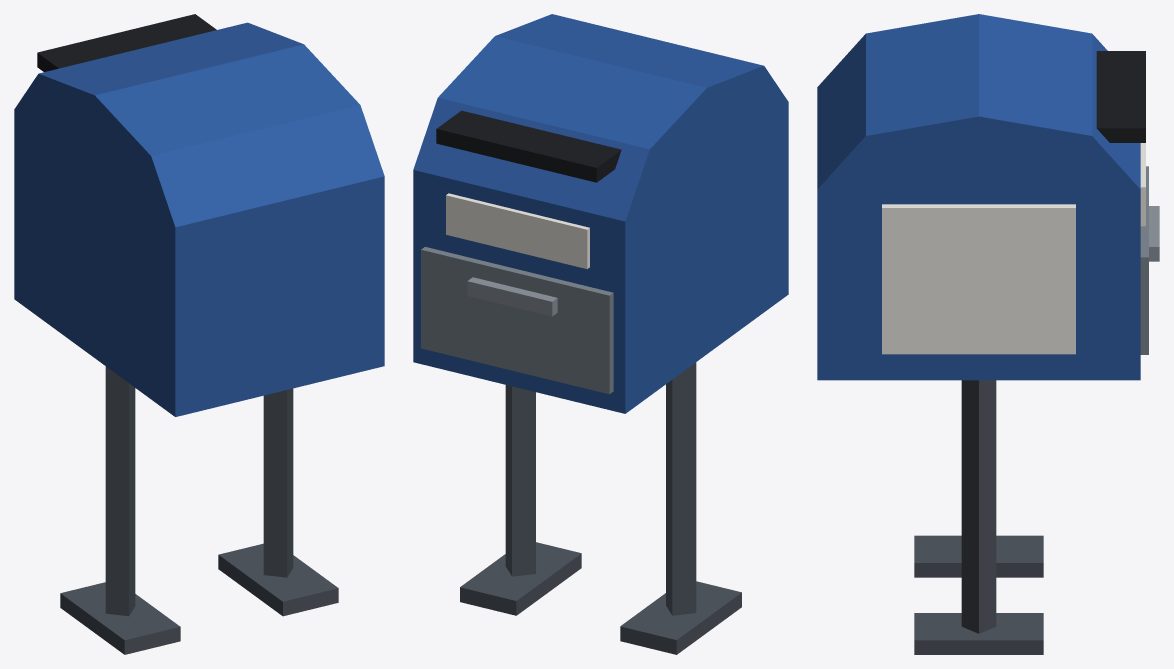
The model's file is mailbox.glb.
The picture shows the model from 3 angles, left to right: view 1: azimuth 30°, elevation 25°; view 2: azimuth 150°, elevation 25°; view 3: azimuth 270°, elevation 25°; orthographic projection.
Parts seen in each view (by area): view 1: Body; view 2: Body; view 3: Body.
Part boxes in pixels (x1=…): Body: x1=14, y1=14, x2=384, y2=654; Body: x1=413, y1=14, x2=788, y2=654; Body: x1=817, y1=14, x2=1159, y2=654.
Size of the model in its own units: 0.47 by 1.1 by 0.635.
